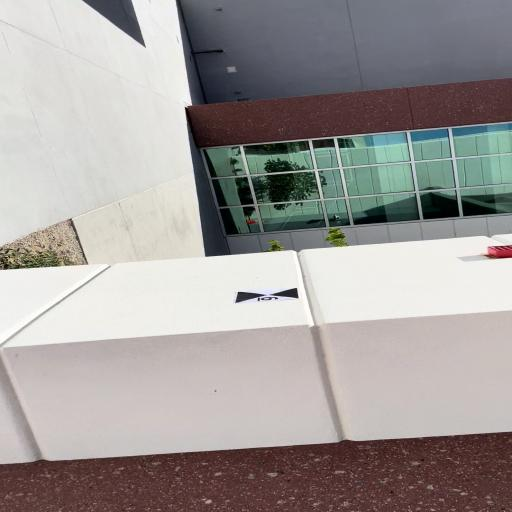target6: (233, 287, 295, 303)
